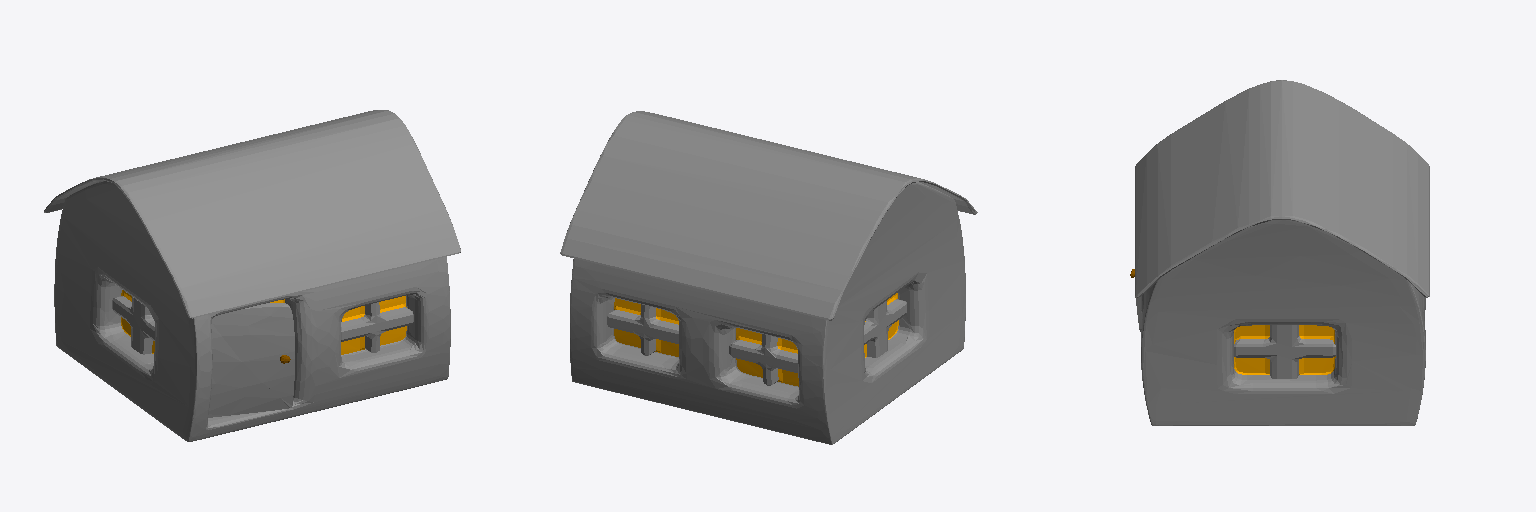
File: low_poly_version.obj
3 renders of one model, left to right at view 1: azimuth 30°, elevation 25°; view 2: azimuth 150°, elevation 25°; view 3: azimuth 270°, elevation 25°, orthographic.
Visible parts, largest first — view 1: Box001; view 2: Box001; view 3: Box001.
Part boxes in pixels (x1,y1,x2,y2): Box001: (44,110,460,441); Box001: (560,111,977,444); Box001: (1130,80,1429,425).
Size of the model in its own units: 14.47 by 10.61 by 13.32.